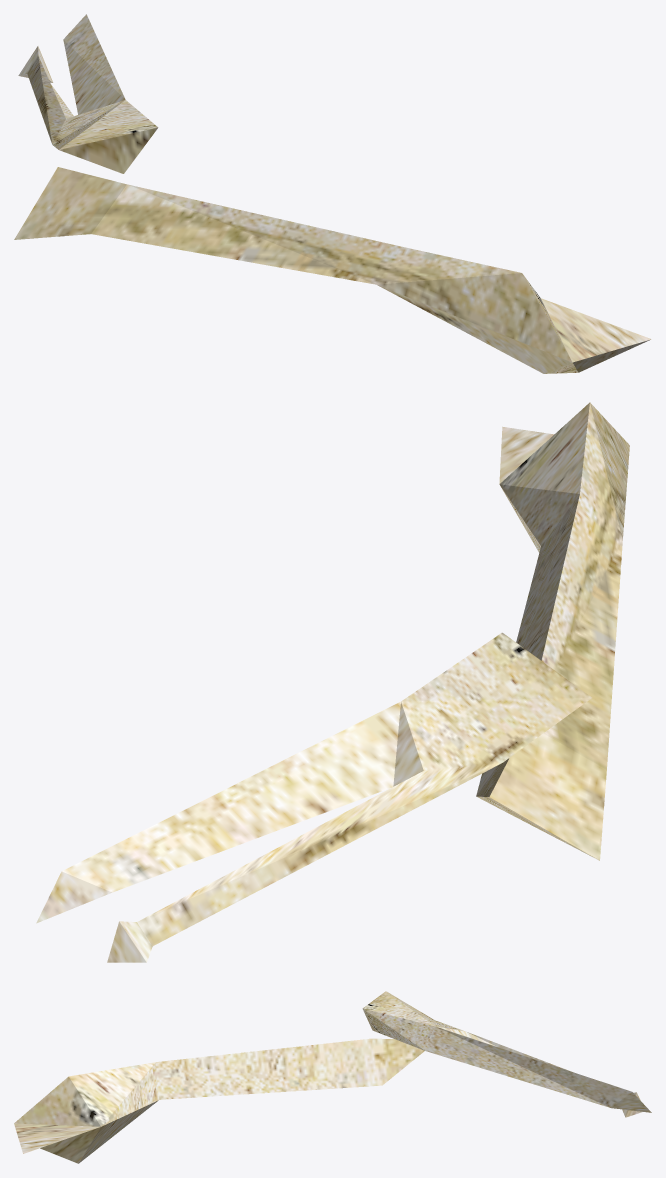
Rendered from poi_tato_skel_krayt_leg_s02_l2.fbx.
3 views of the same model, one above another, from view 1: azimuth 30°, elevation 25°; view 2: azimuth 150°, elevation 25°; view 3: azimuth 270°, elevation 25° (orthographic). The views are drawn at different scales.
Parts seen in each view (by area): view 1: mesh_node; view 2: mesh_node; view 3: mesh_node.
Part boxes in pixels (box(x1,y1,x2,y2)): mesh_node: box(14, 14, 651, 373); mesh_node: box(36, 402, 629, 962); mesh_node: box(14, 991, 651, 1163).
Bounding box in the file's own units: 3.06 × 1.15 × 6.95.
Materials: 2 (2 with a texture image).
